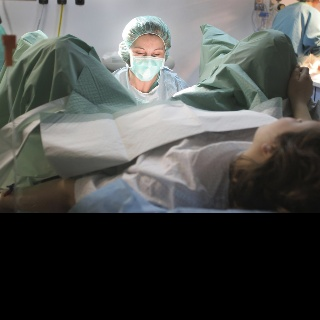without_mask: (253, 114, 320, 147)
